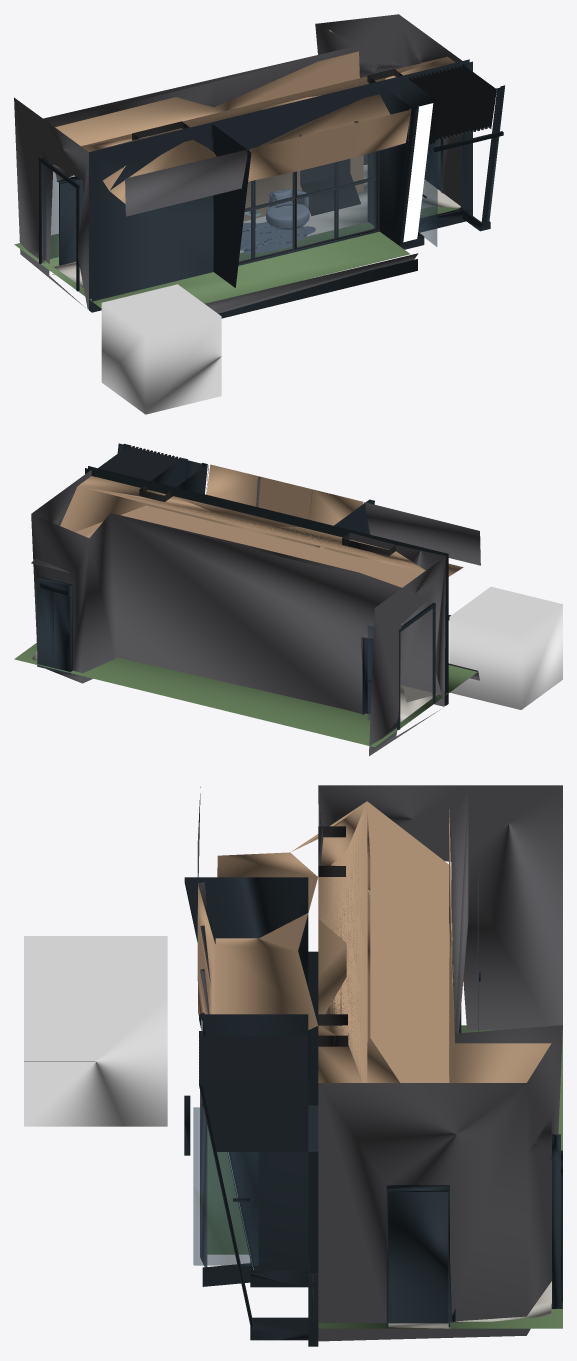
The model's file is flow-hall.glb.
3 views of the same model, one above another, from view 1: azimuth 30°, elevation 25°; view 2: azimuth 150°, elevation 25°; view 3: azimuth 270°, elevation 25° (orthographic). The views are drawn at different scales.
Bounding box in the file's own units: 10.88 × 4.73 × 7.65.
